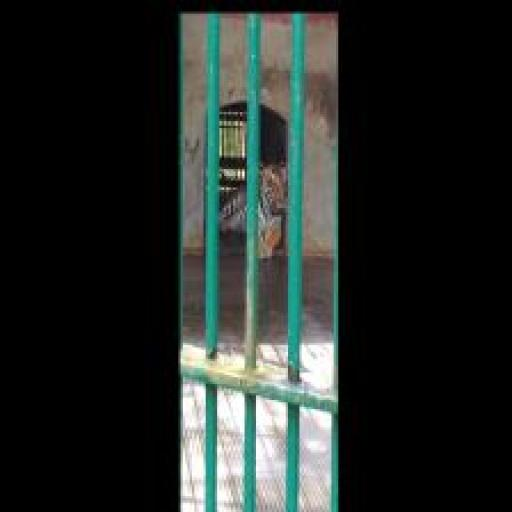Tiger: (220, 160, 290, 263)
